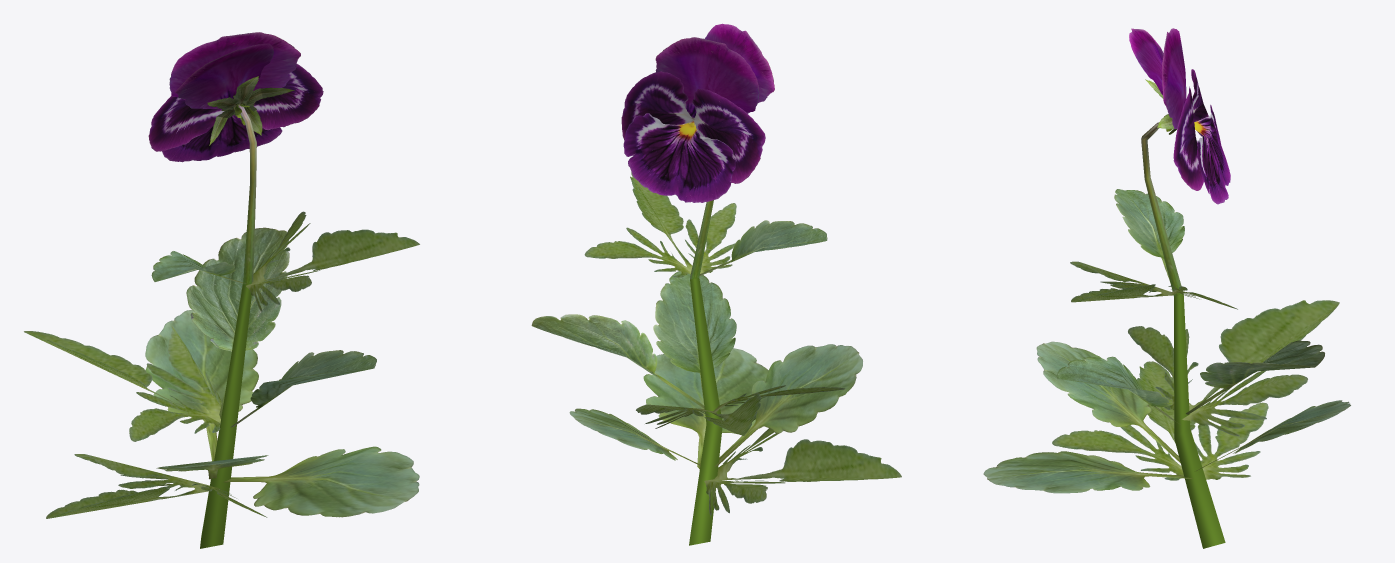
File: Viola1H.fbx
The picture shows the model from 3 angles, left to right: view 1: azimuth 30°, elevation 25°; view 2: azimuth 150°, elevation 25°; view 3: azimuth 270°, elevation 25°; orthographic projection. The views are drawn at different scales.
Visible parts, largest first — view 1: Viola1H_LOD0; view 2: Viola1H_LOD0; view 3: Viola1H_LOD0.
Part boxes in pixels (left/top/right/bottom): Viola1H_LOD0: left=24, top=32, right=419, bottom=548; Viola1H_LOD0: left=531, top=23, right=901, bottom=545; Viola1H_LOD0: left=983, top=28, right=1350, bottom=548.
Size of the model in its own units: 36.17 by 51.76 by 39.51.
